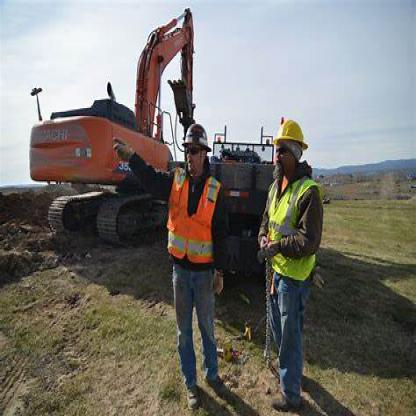person: (117, 108, 226, 401), (256, 106, 320, 410)
